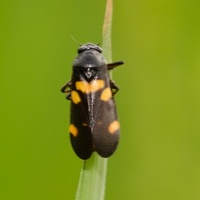insect: (61, 43, 122, 158)
